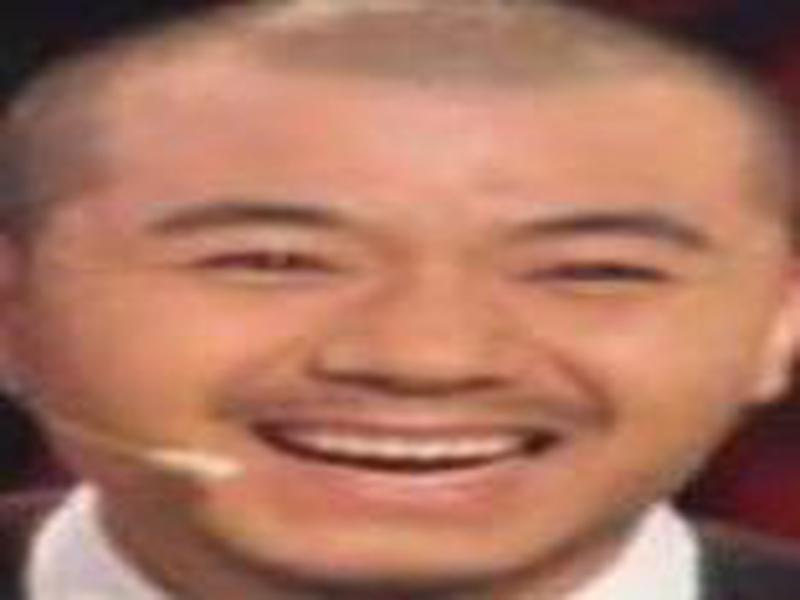without_mask: (44, 82, 761, 582)
